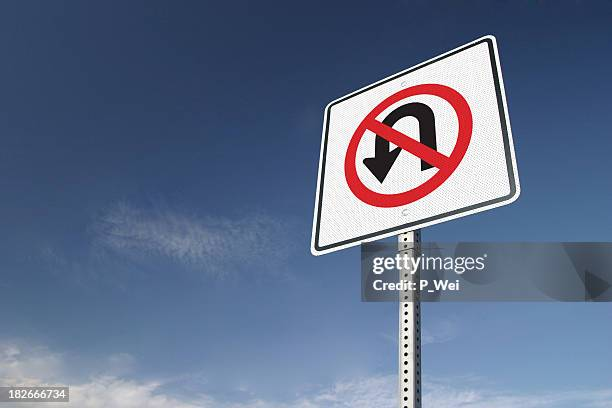No U Turn: (343, 83, 471, 207)
